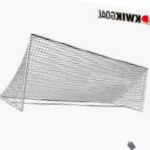goals: (1, 32, 150, 113)
